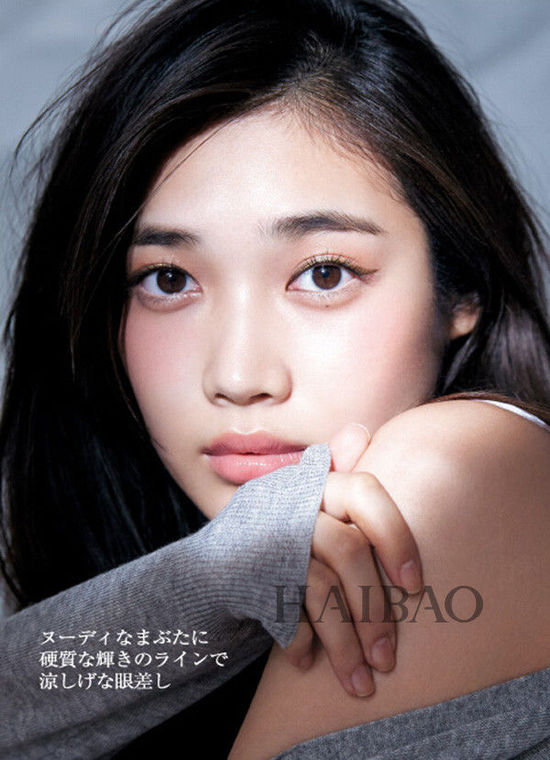face: (126, 85, 422, 530)
